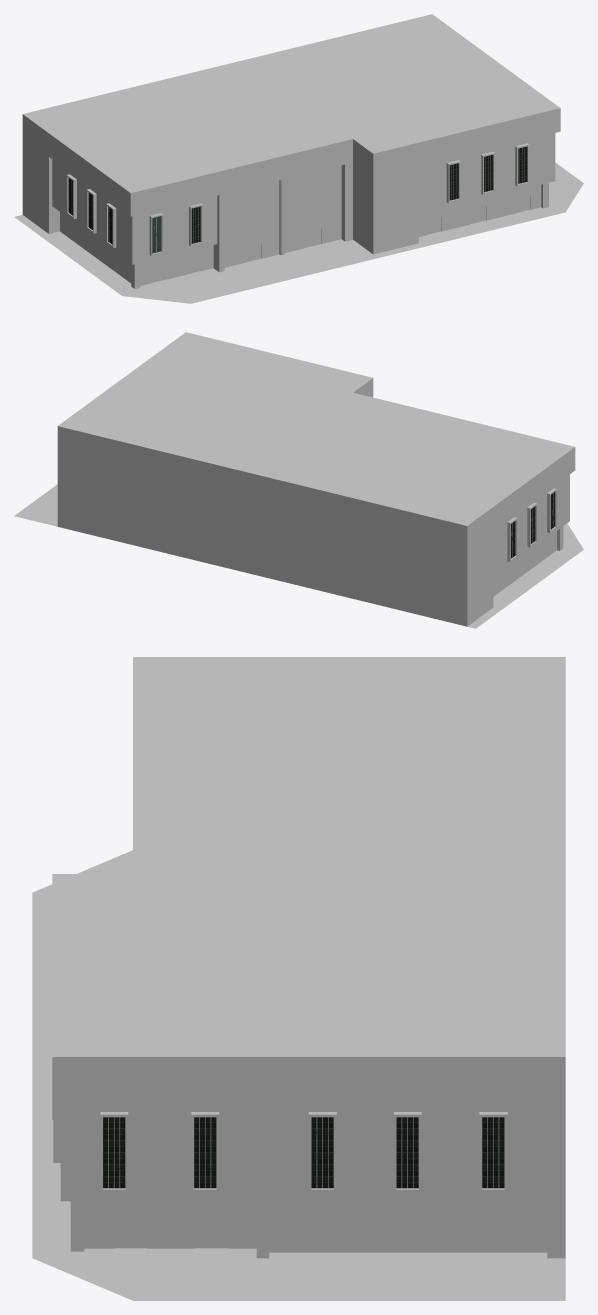
3 renders of one model, top to bottom at view 1: azimuth 30°, elevation 25°; view 2: azimuth 150°, elevation 25°; view 3: azimuth 270°, elevation 25°, orthographic. The views are drawn at different scales.
Visible parts, largest first — view 1: DC-013; view 2: DC-013; view 3: DC-013.
Part boxes in pixels (left/top/right/bottom): DC-013: left=14, top=14, right=583, bottom=303; DC-013: left=14, top=332, right=583, bottom=628; DC-013: left=32, top=657, right=565, bottom=1300.
Size of what is drawn, in the model's own units: 72 by 15 by 36.
